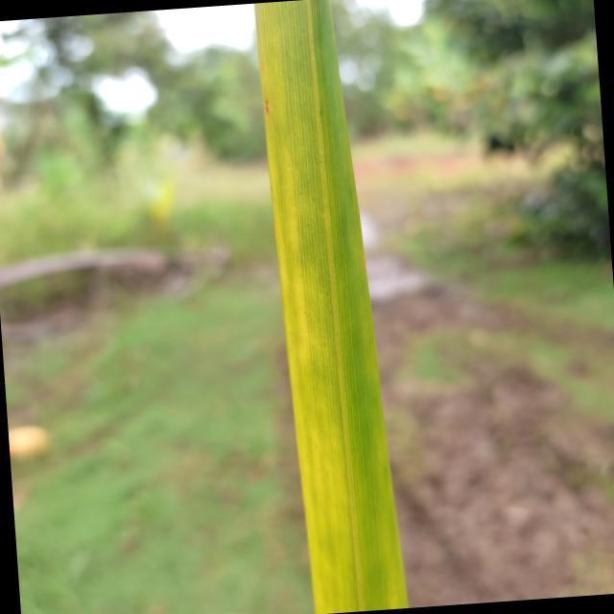nitrogen: (259, 0, 409, 614)
